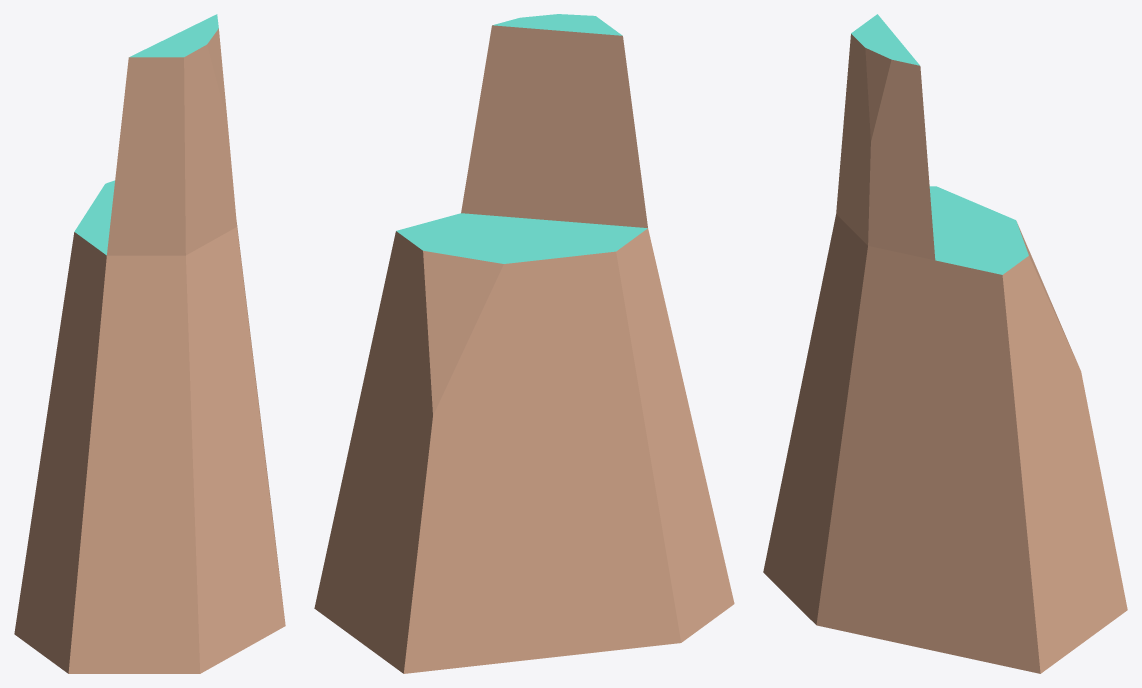
File: rock_tallD.glb
3 views of the same model, side by side, from view 1: azimuth 30°, elevation 25°; view 2: azimuth 150°, elevation 25°; view 3: azimuth 270°, elevation 25° (orthographic). The views are drawn at different scales.
Visible parts, largest first — view 1: rock_tallD; view 2: rock_tallD; view 3: rock_tallD.
Boxes of the visible parts, x1,y1,x2,y2 form: rock_tallD: (14,14,285,673); rock_tallD: (314,14,734,673); rock_tallD: (763,14,1127,673).
Bounding box in the file's own units: 0.4428 × 0.7721 × 0.4615.
1 material, 1 textured.
